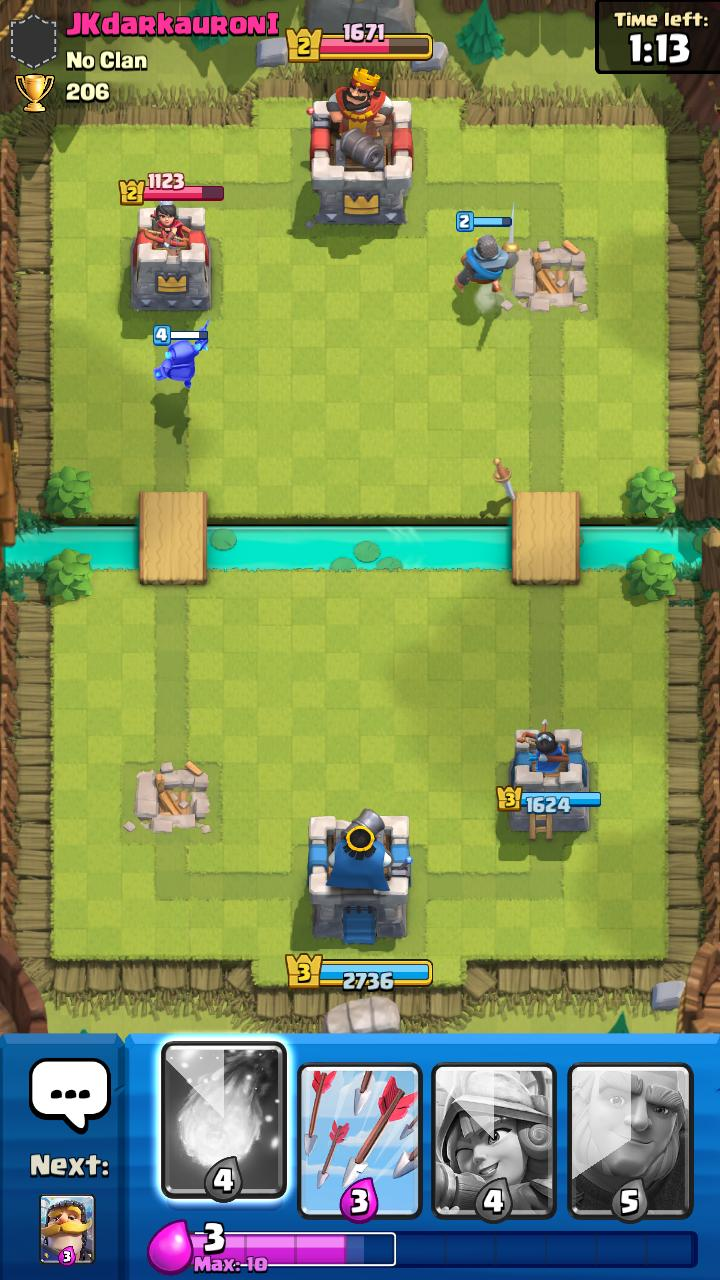ally: (454, 201, 519, 293), (153, 318, 209, 389)
